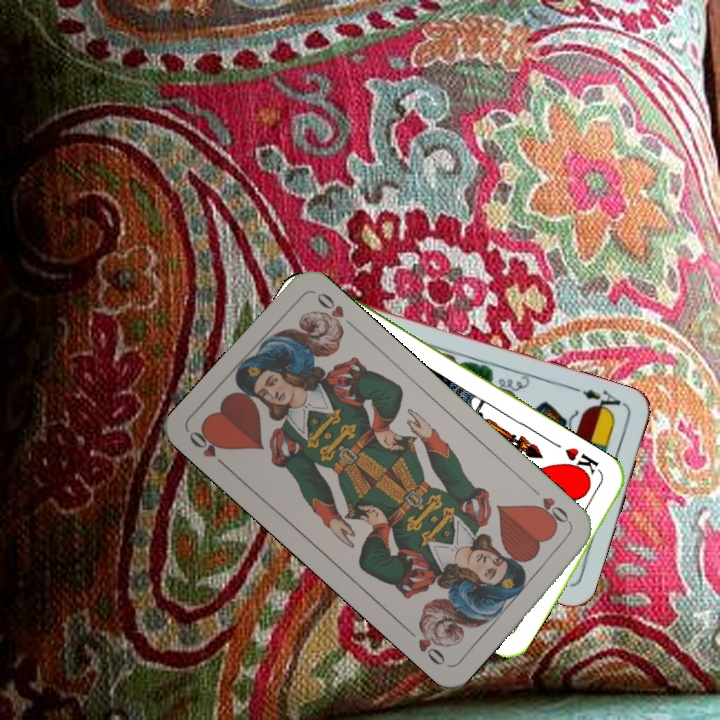EA: (578, 385, 628, 417)
HK: (560, 443, 606, 483)
HO: (185, 424, 233, 473), (527, 483, 575, 530)
